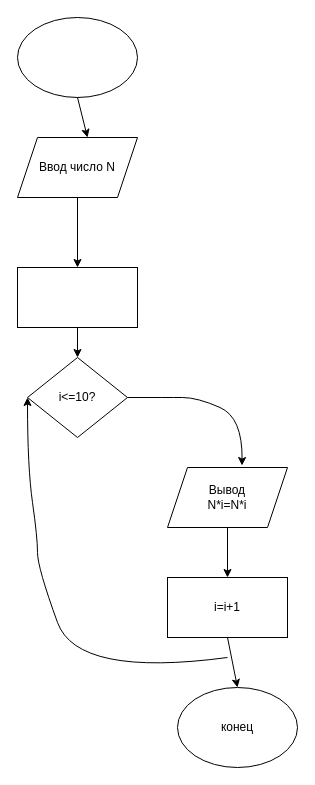
Some shapes in this 315 by 785 pixel diagram are drawn without their labels. The centre of each missing label's shape, as x and y in pixels:
i = 1: point 77,297
Начало: point 77,57
